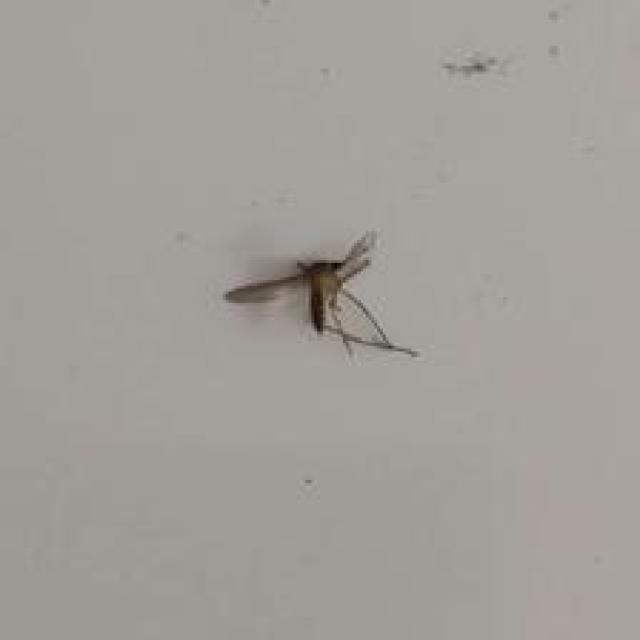Culex: (223, 227, 420, 362)
